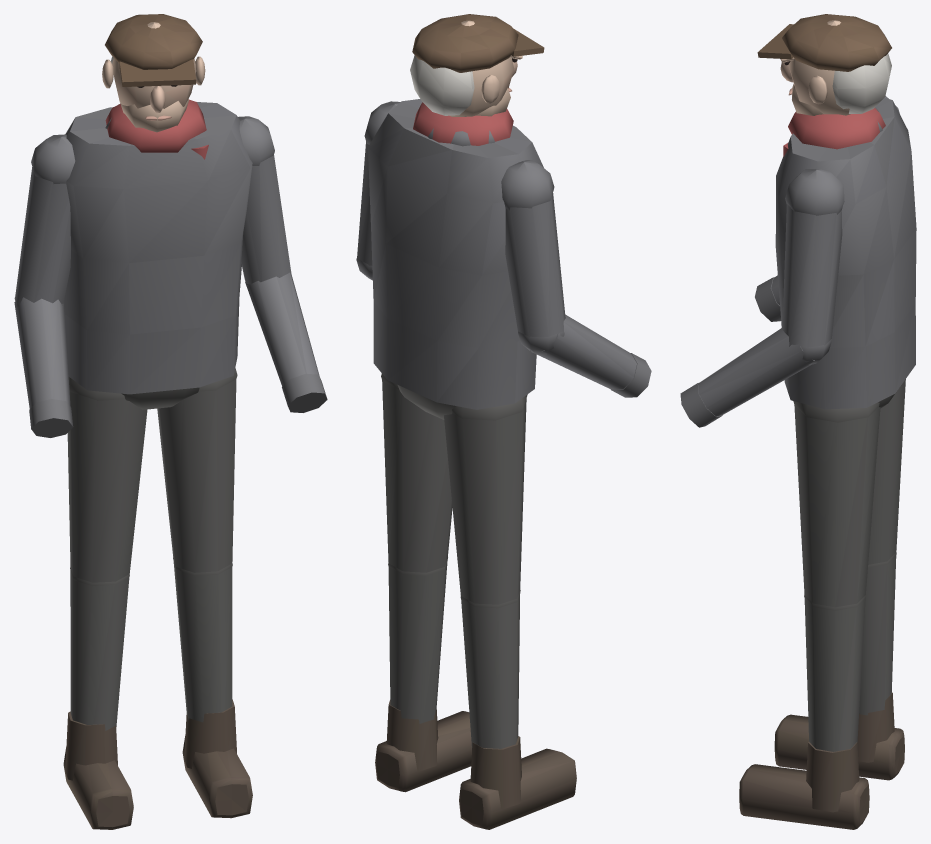
File: crowd_stand_a.glb
The picture shows the model from 3 angles, left to right: view 1: azimuth 30°, elevation 25°; view 2: azimuth 150°, elevation 25°; view 3: azimuth 270°, elevation 25°; orthographic projection.
Visible parts, largest first — view 1: body; view 2: body; view 3: body.
Part boxes in pixels (x1,y1,x2,y2): body: (14, 14, 327, 829); body: (356, 14, 651, 829); body: (680, 14, 916, 829).
Bounding box in the file's own units: 0.5811 × 1.57 × 0.4334.
